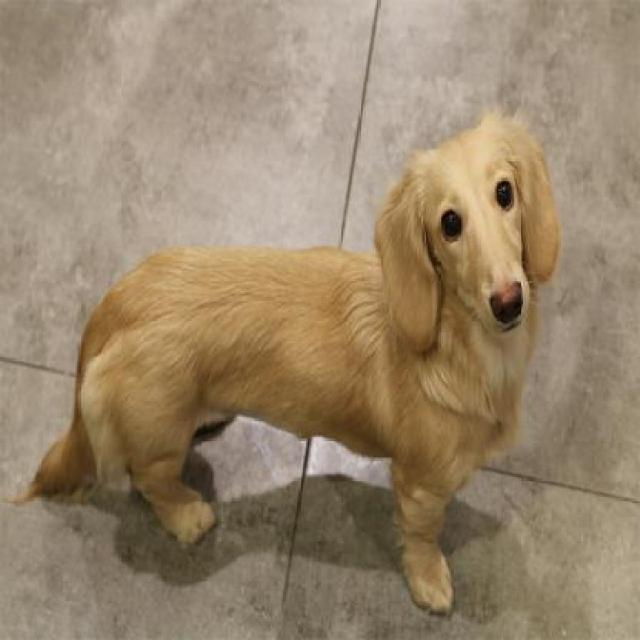Dog: (5, 105, 563, 623)
